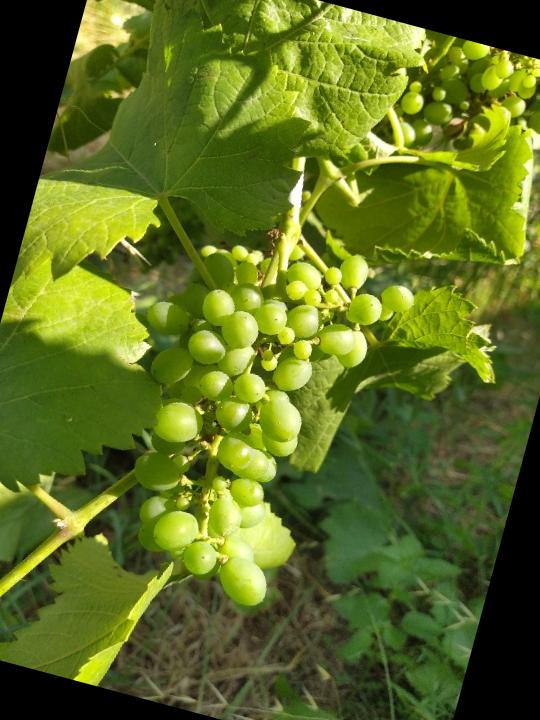grape: (72, 199, 427, 631)
